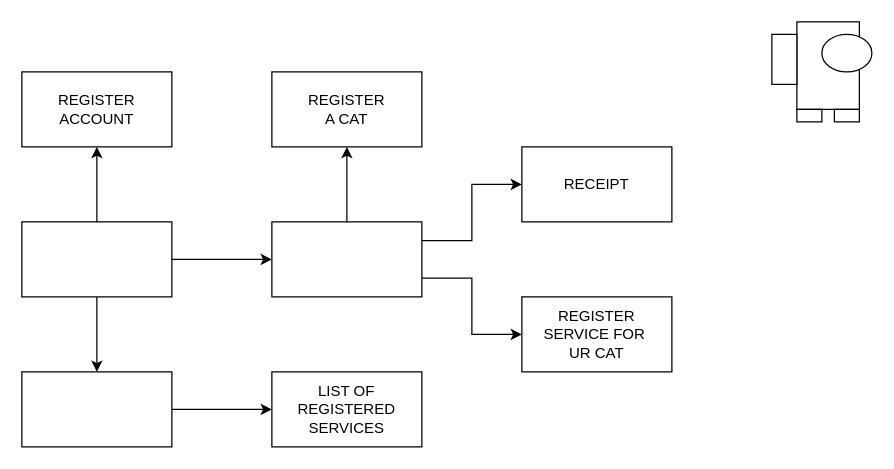
This 894x469 diagram has some shape labels left out. Here are the shapes that lost their labels. From the top down, the box of each, then its label:
(21, 221, 172, 297): LOGIN
(271, 221, 422, 297): MAIN PAGE
(21, 371, 172, 447): DASHBOARD
